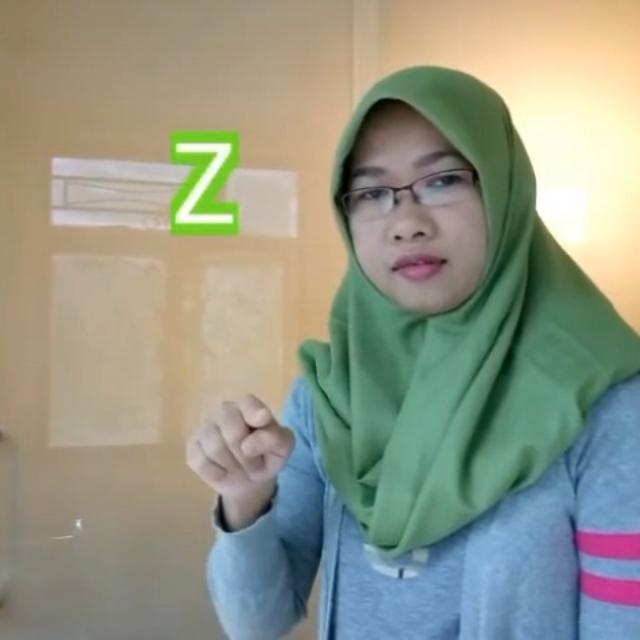Z: (182, 384, 298, 504)
